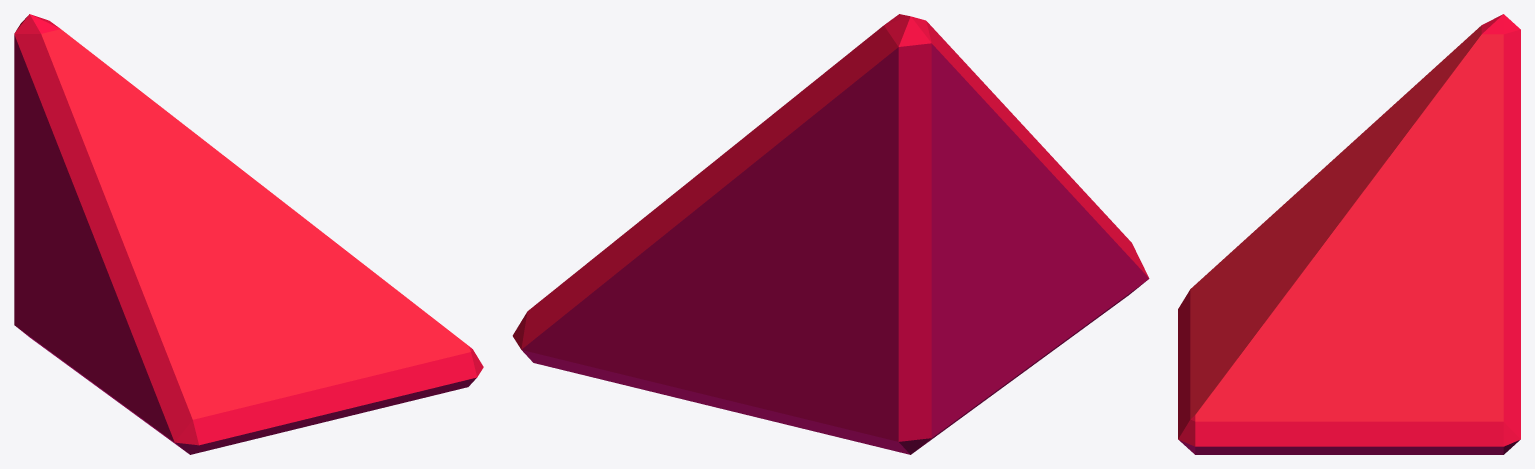
File: m_kub_diagonalPink_cornerOut.FBX
3 views of the same model, side by side, from view 1: azimuth 30°, elevation 25°; view 2: azimuth 150°, elevation 25°; view 3: azimuth 270°, elevation 25° (orthographic). The views are drawn at different scales.
Visible parts, largest first — view 1: m_kub_diagonalPink_cornerOut; view 2: m_kub_diagonalPink_cornerOut; view 3: m_kub_diagonalPink_cornerOut.
Boxes of the visible parts, bbox=[...] form: m_kub_diagonalPink_cornerOut: bbox=[14, 14, 483, 454]; m_kub_diagonalPink_cornerOut: bbox=[512, 14, 1149, 454]; m_kub_diagonalPink_cornerOut: bbox=[1178, 14, 1520, 454].
Size of the model in its own units: 2 by 2 by 2.
